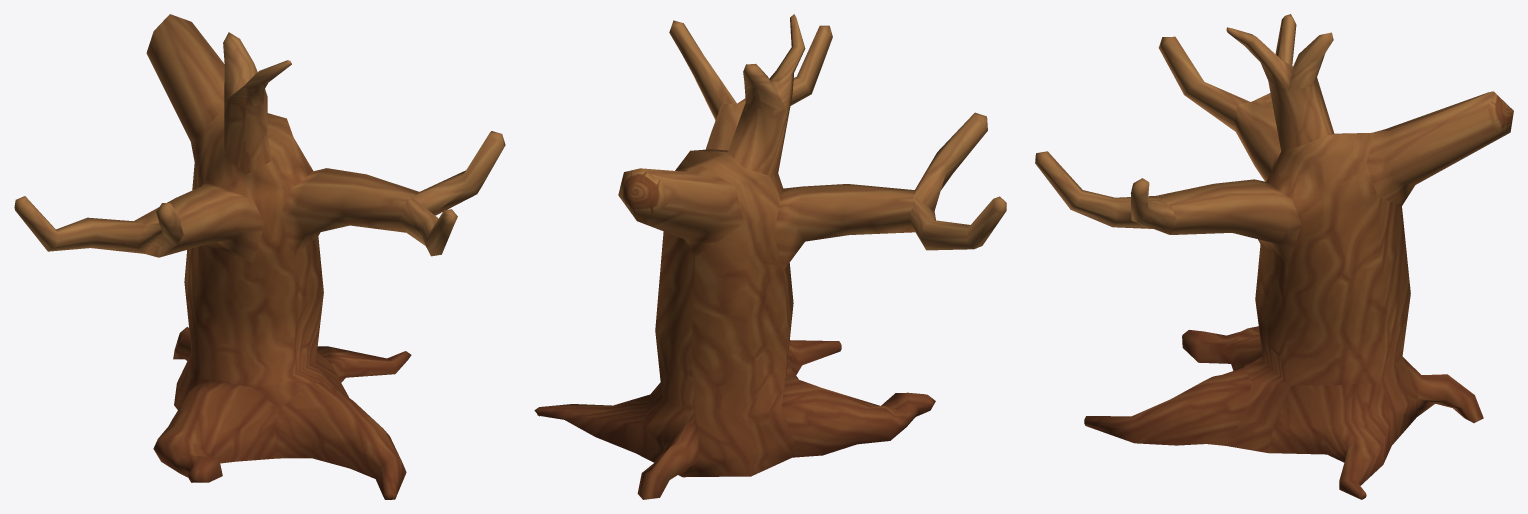
File: Generic Tree #1.fbx
The picture shows the model from 3 angles, left to right: view 1: azimuth 30°, elevation 25°; view 2: azimuth 150°, elevation 25°; view 3: azimuth 270°, elevation 25°; orthographic projection. The views are drawn at different scales.
Visible parts, largest first — view 1: Generic Tree #1; view 2: Generic Tree #1; view 3: Generic Tree #1.
Part boxes in pixels (box(x1,y1,x2,y2)): Generic Tree #1: box(14, 14, 505, 499); Generic Tree #1: box(534, 14, 1006, 499); Generic Tree #1: box(1035, 14, 1513, 499).
Bounding box in the file's own units: 253 × 220 × 248.
